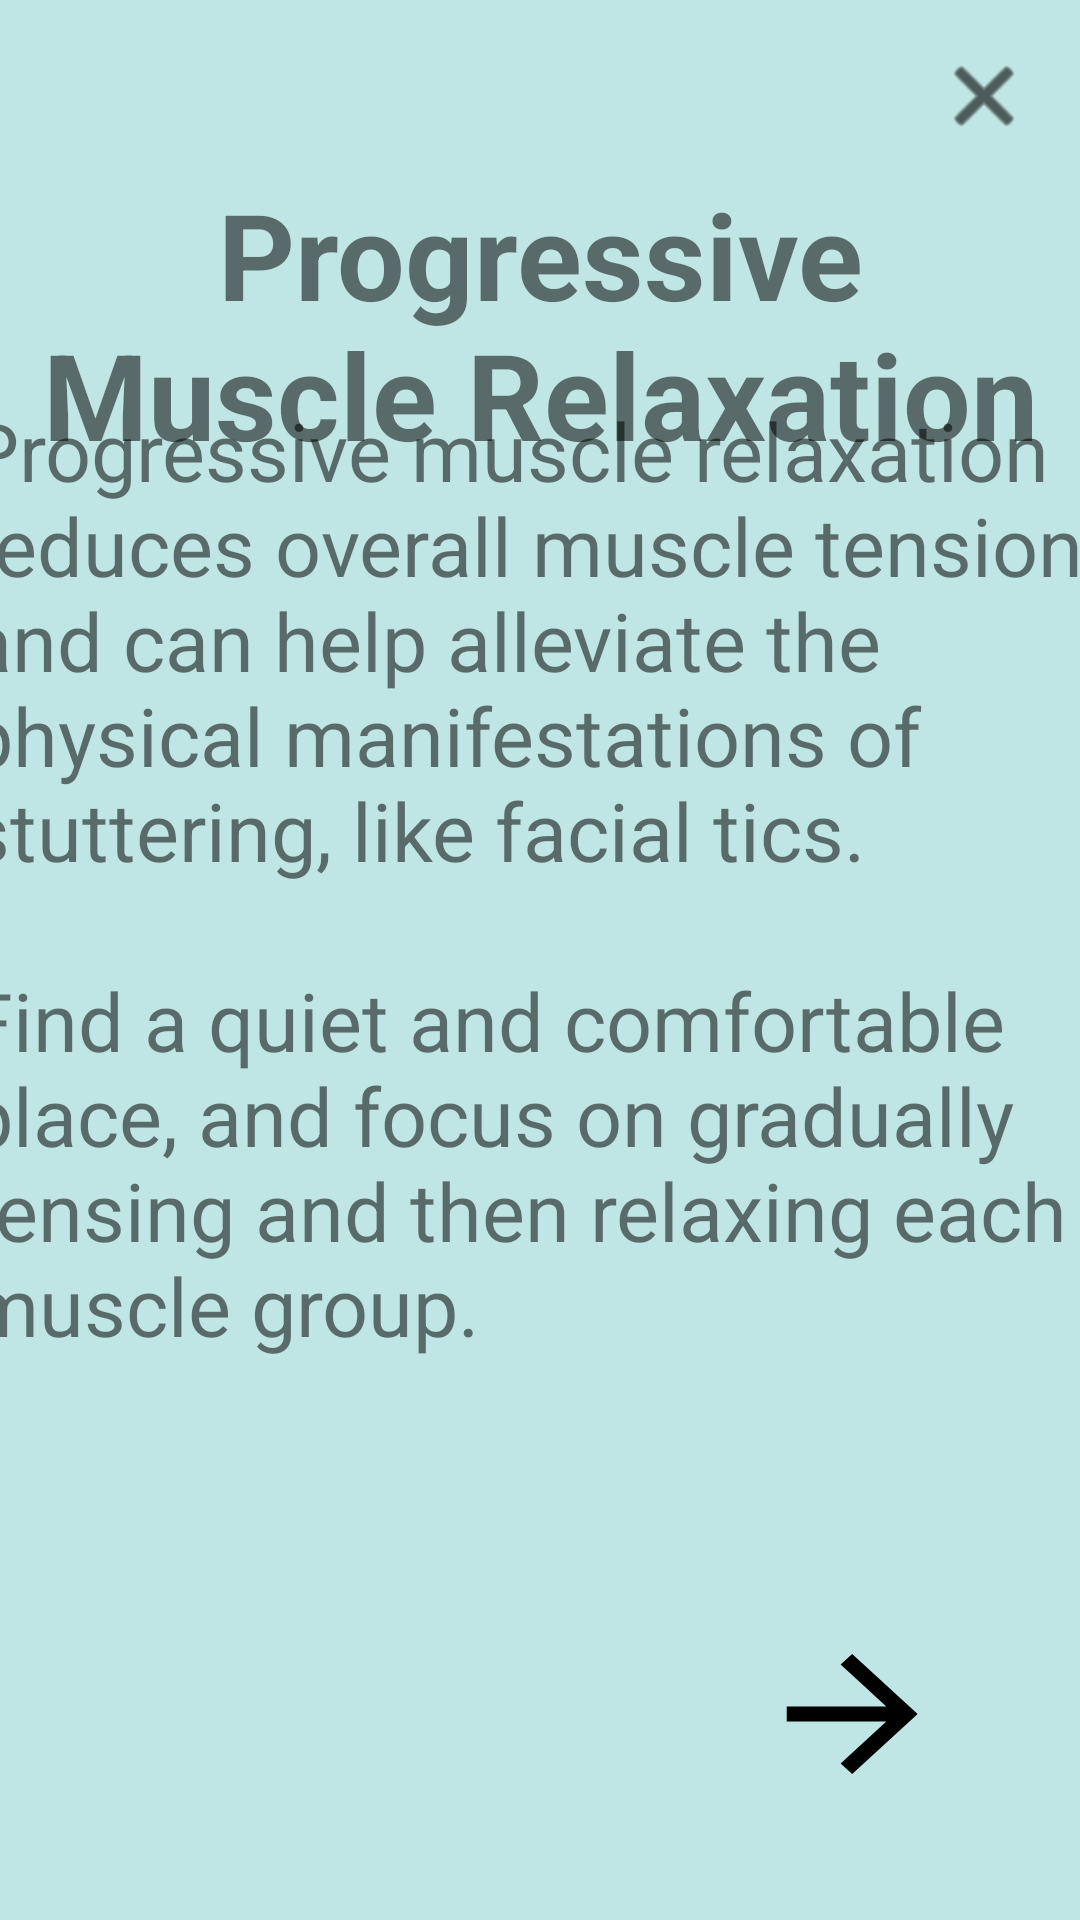

Locate icon controls on the screen. Image size 1080x1920, boxes as (x1,y1,x2,y2).
close: (954,66,1014,126)
Next Button: (786,1654,918,1774)
